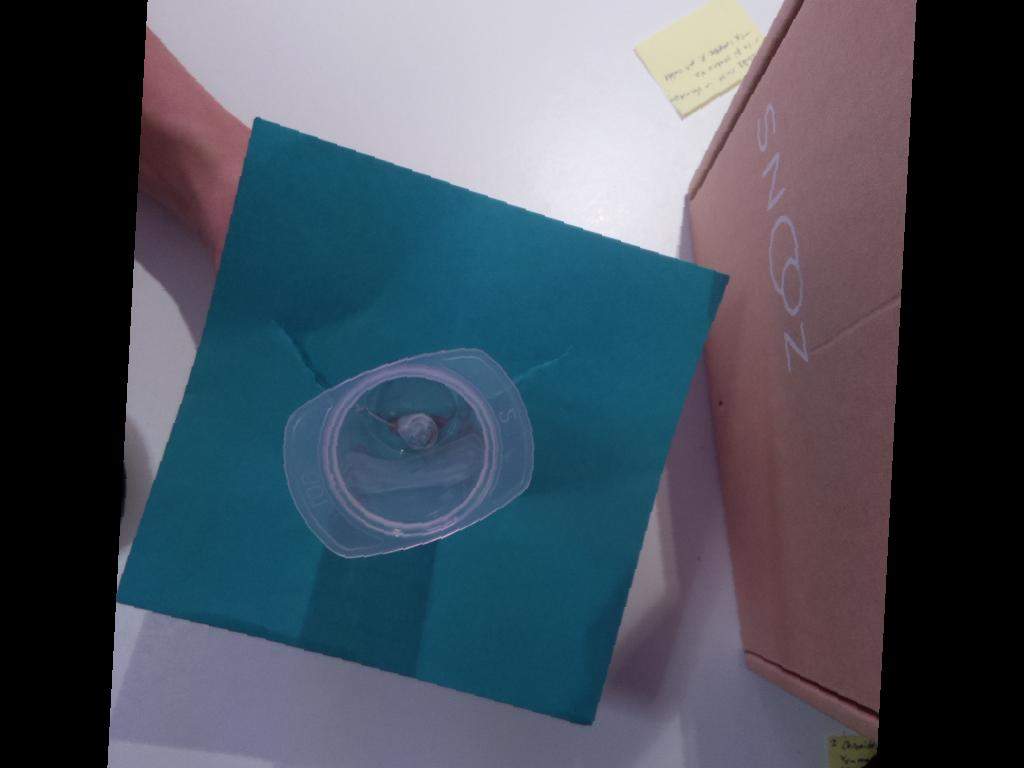clean: (281, 348, 537, 559)
